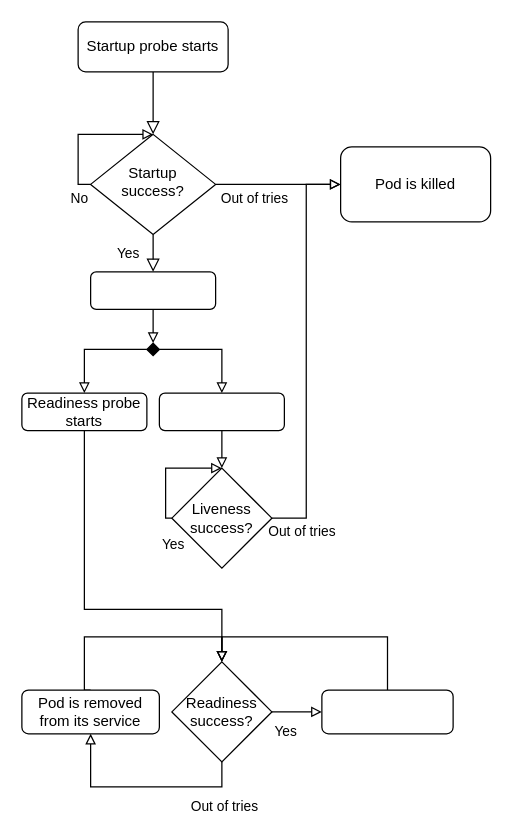
Some shapes in this 513 by 836 pixel diagram are drawn without their labels. The shapes that lost their labels are listed below. From the top down, each one's box as (x1, y1, x2, y2) in pixels, then its label:
(89, 271, 216, 309): Startup probe stops
(158, 392, 284, 431): Liveness probe starts
(321, 689, 453, 734): Pod is added or stays in its service
